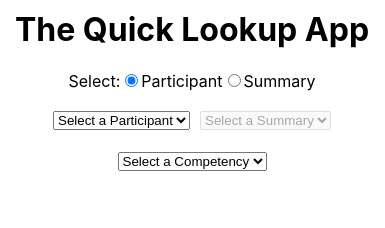
Test case: Correct output when selecting `Enthousiasm` with summary `average` › should get the correct result after selecting 'Summary' and 'Competency' select boxes
This screenshot has width=385, height=228.
Click the radio button labelled "Summary" at (234, 80), box [228, 74, 240, 87]
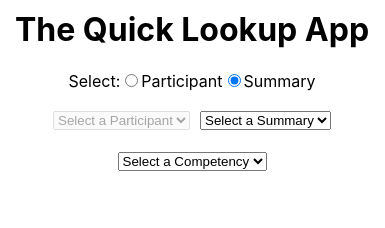
Select "average" in the dropdown with test id "select-summary" at (266, 120), box [200, 111, 331, 130]
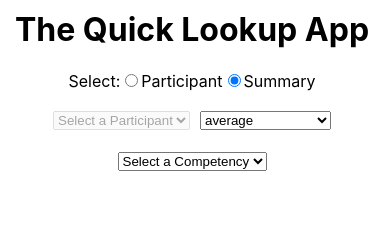
Select "Enthousiasm" in the dropdown with test id "select-competency" at (192, 161), box [118, 152, 266, 171]
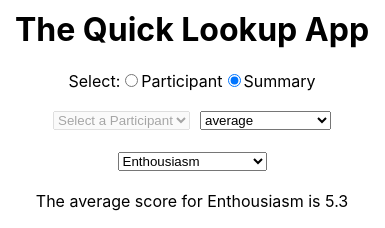
Check: the text "The average score for Enthousiasm is 5.3" is shown, box [36, 191, 348, 211]
